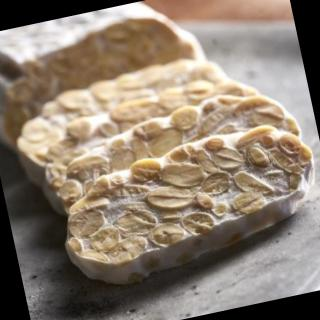Tempe: (39, 112, 320, 296)
